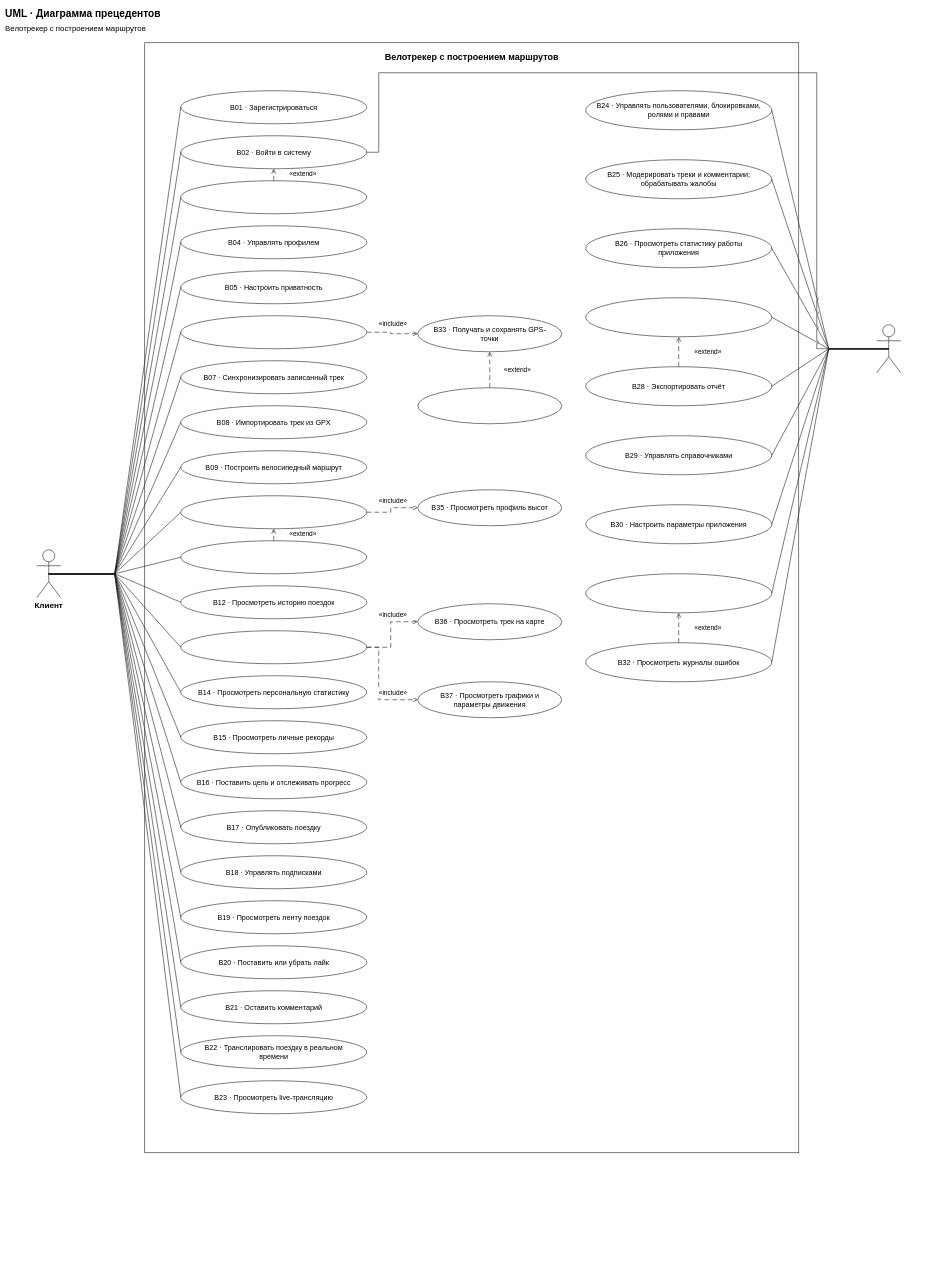
Image size: 937x1262. Some labels were removed from this diagram. Here are the shapes that lost their labels. From the top down, the centre of each, then its label:
point (273, 197): B03 · Восстановить пароль
point (273, 332): B06 · Записать GPS-трек поездки
point (678, 317): B27 · Сформировать отчёт
point (888, 348): Администратор
point (489, 405): B34 · Буферизовать точки без сети
point (273, 512): B10 · Просмотреть маршрут
point (273, 557): B11 · Экспортировать маршрут в GPX
point (678, 593): B31 · Контролировать состояние сервисов
point (273, 647): B13 · Просмотреть детали поездки
